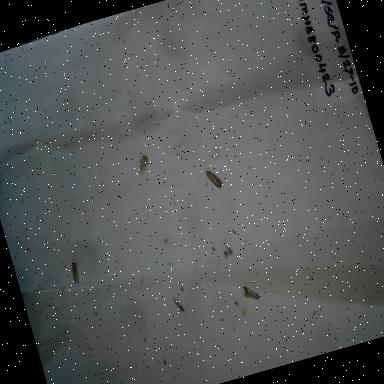pbw: (200, 162, 231, 204), (236, 276, 266, 308), (63, 255, 88, 292), (131, 149, 157, 177), (170, 293, 188, 318)
